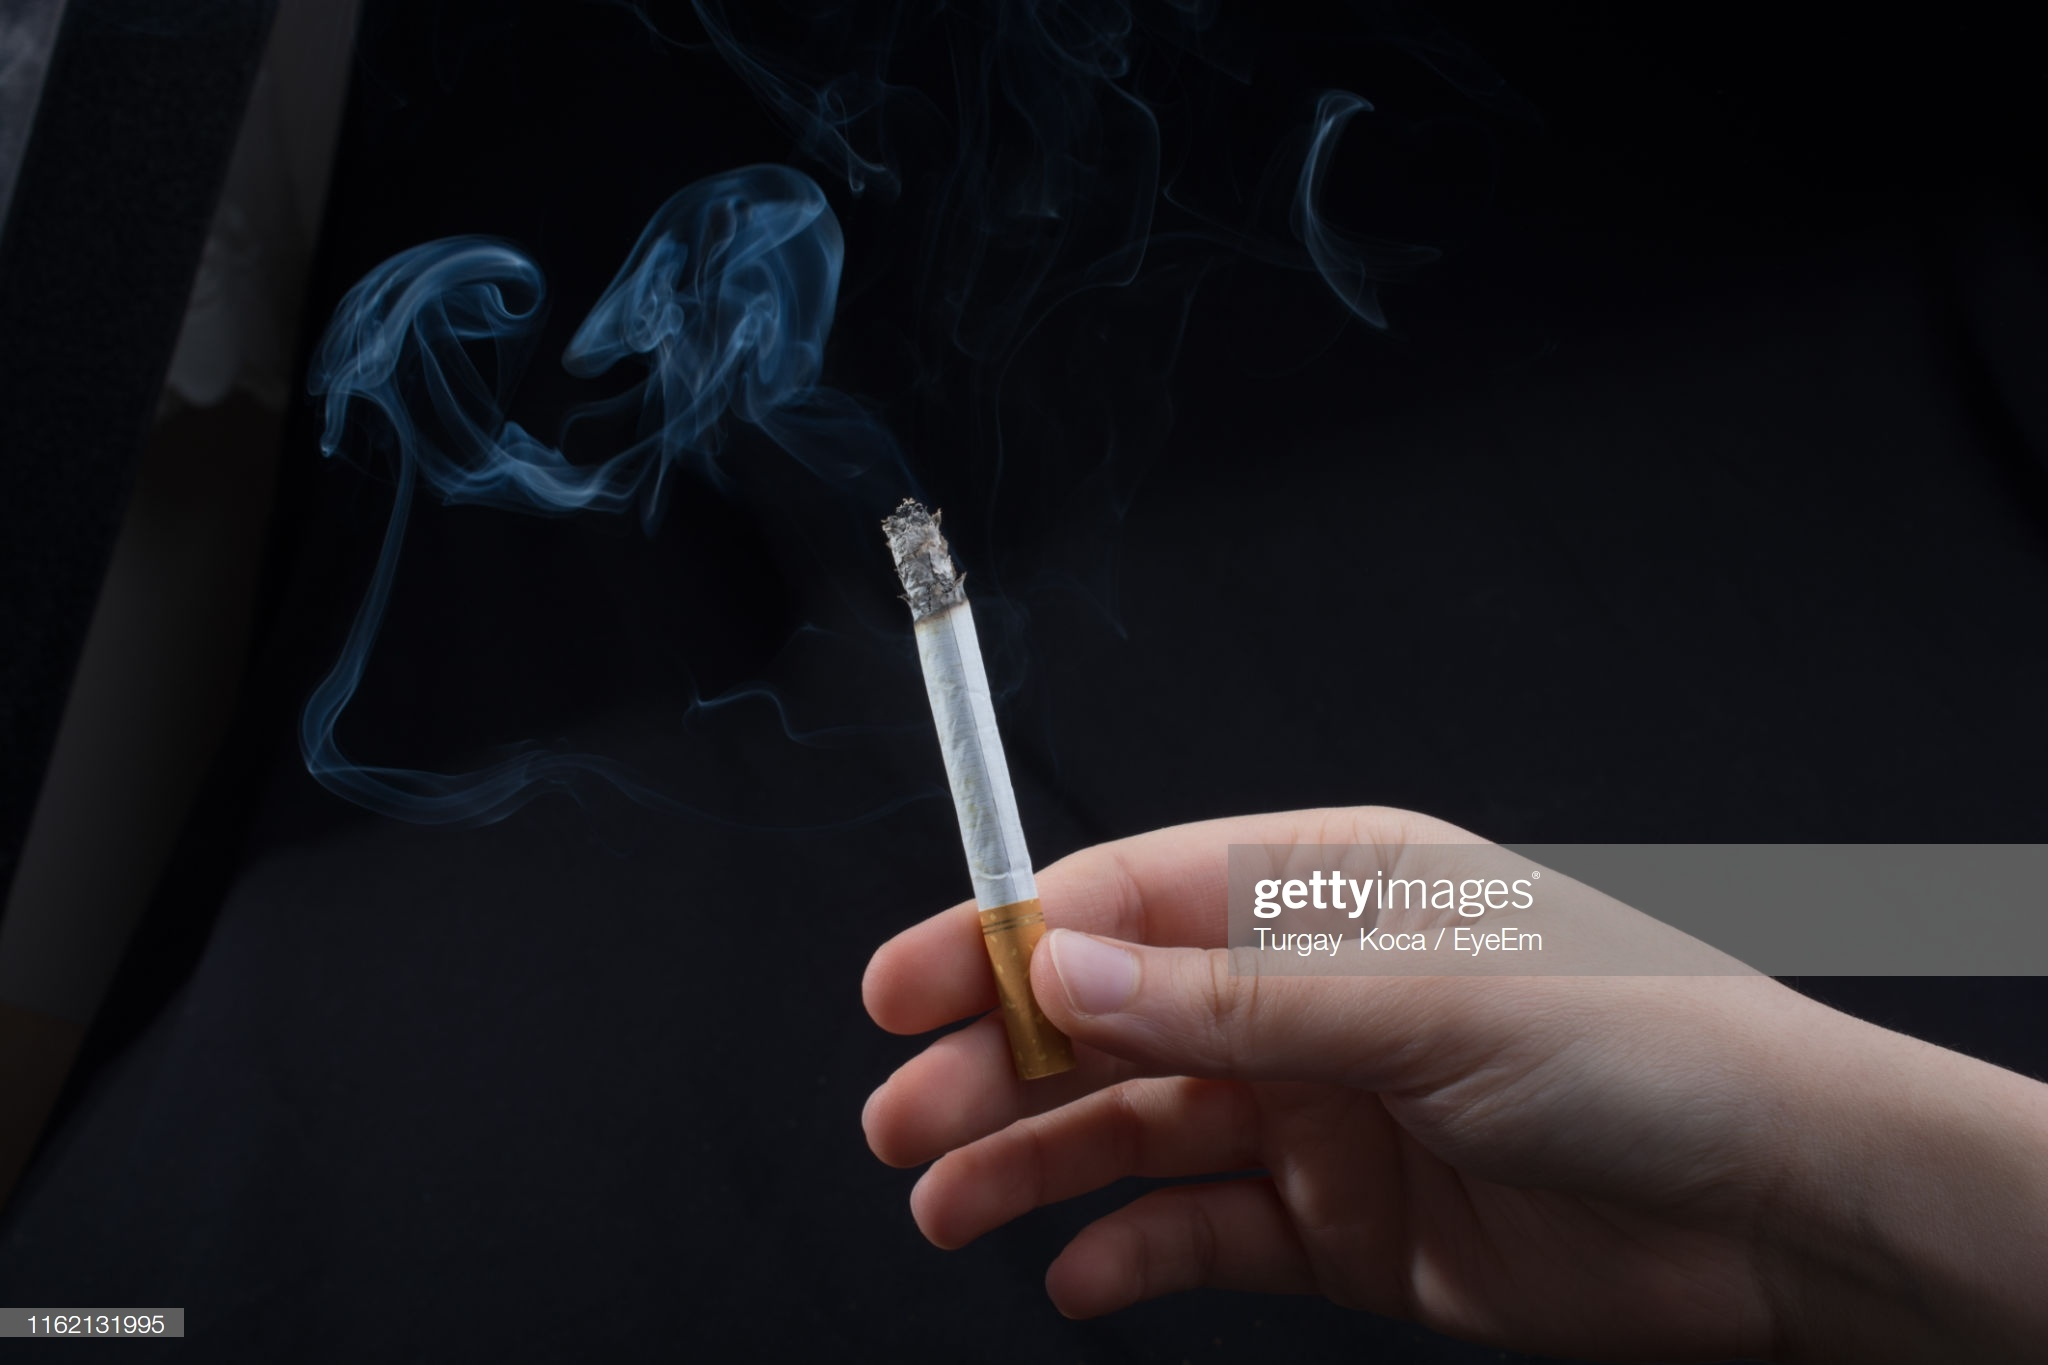sigaretta: (900, 495, 1077, 1082)
